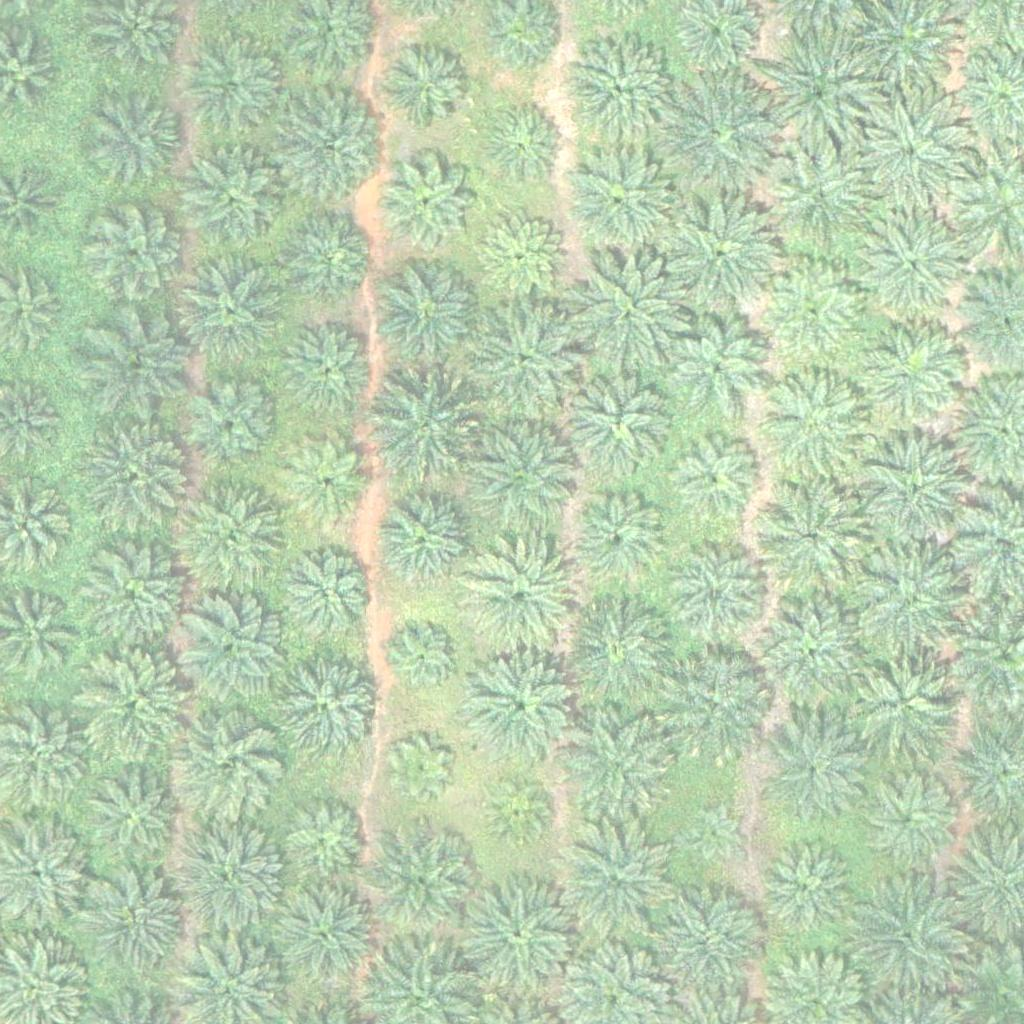Kelapa_Sawit: (176, 143, 289, 257), (276, 89, 389, 203), (373, 259, 486, 373), (365, 372, 478, 486), (853, 874, 966, 988), (759, 718, 872, 832), (82, 424, 195, 537), (77, 543, 190, 656), (371, 481, 484, 594), (463, 543, 576, 656), (562, 32, 675, 145), (563, 148, 676, 261), (666, 81, 779, 194), (664, 199, 777, 312), (760, 371, 873, 484), (752, 480, 865, 593), (857, 548, 970, 661), (848, 647, 961, 760), (757, 599, 870, 712), (556, 820, 669, 933), (465, 654, 578, 767), (462, 880, 575, 993), (170, 709, 283, 822), (174, 822, 287, 935), (75, 647, 188, 760), (77, 767, 190, 880), (471, 304, 583, 418), (468, 416, 580, 530), (565, 484, 677, 598), (659, 653, 771, 767), (562, 596, 674, 710), (82, 303, 194, 416), (175, 250, 287, 363), (172, 481, 284, 594), (572, 254, 684, 367), (566, 367, 678, 480), (763, 39, 875, 152), (765, 141, 877, 254), (854, 100, 966, 213), (855, 211, 967, 324), (860, 435, 972, 548), (654, 885, 766, 998), (565, 709, 677, 822), (366, 826, 478, 939), (274, 653, 386, 766), (268, 884, 380, 997), (174, 594, 286, 707), (78, 869, 190, 982), (84, 199, 184, 300), (181, 370, 281, 471), (665, 316, 765, 417), (761, 262, 861, 363), (861, 322, 961, 423), (92, 86, 192, 186), (184, 34, 284, 134), (278, 208, 378, 308), (278, 322, 378, 422), (375, 154, 475, 254), (668, 545, 768, 645), (858, 768, 958, 868), (756, 837, 856, 937), (283, 554, 371, 642), (382, 45, 470, 133), (480, 99, 568, 187), (477, 213, 565, 301), (280, 794, 368, 882), (283, 438, 370, 526), (674, 435, 761, 523), (486, 781, 549, 844), (394, 627, 457, 690), (389, 738, 452, 801), (683, 801, 745, 864)
